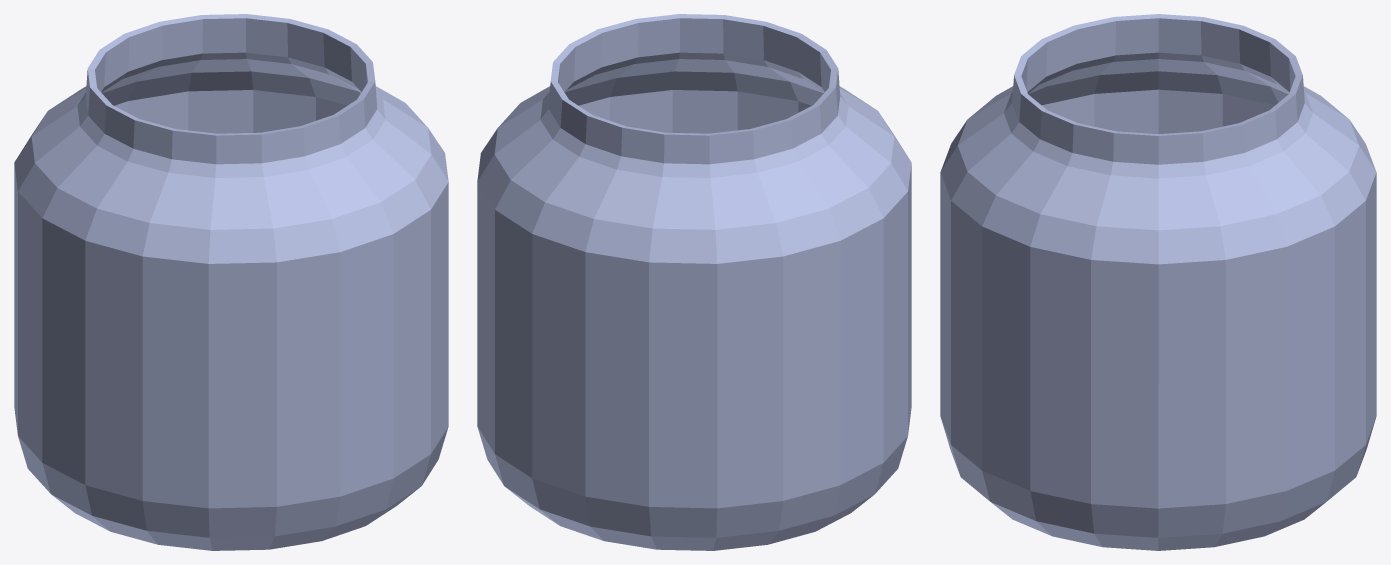
File: MoneyJar.fbx
3 views of the same model, side by side, from view 1: azimuth 30°, elevation 25°; view 2: azimuth 150°, elevation 25°; view 3: azimuth 270°, elevation 25° (orthographic).
Parts seen in each view (by area): view 1: Cylinder; view 2: Cylinder; view 3: Cylinder.
Boxes of the visible parts, bbox=[...] form: Cylinder: bbox=[14, 14, 448, 550]; Cylinder: bbox=[477, 14, 911, 550]; Cylinder: bbox=[940, 14, 1376, 550].
Bounding box in the file's own units: 10 × 10.34 × 10.
